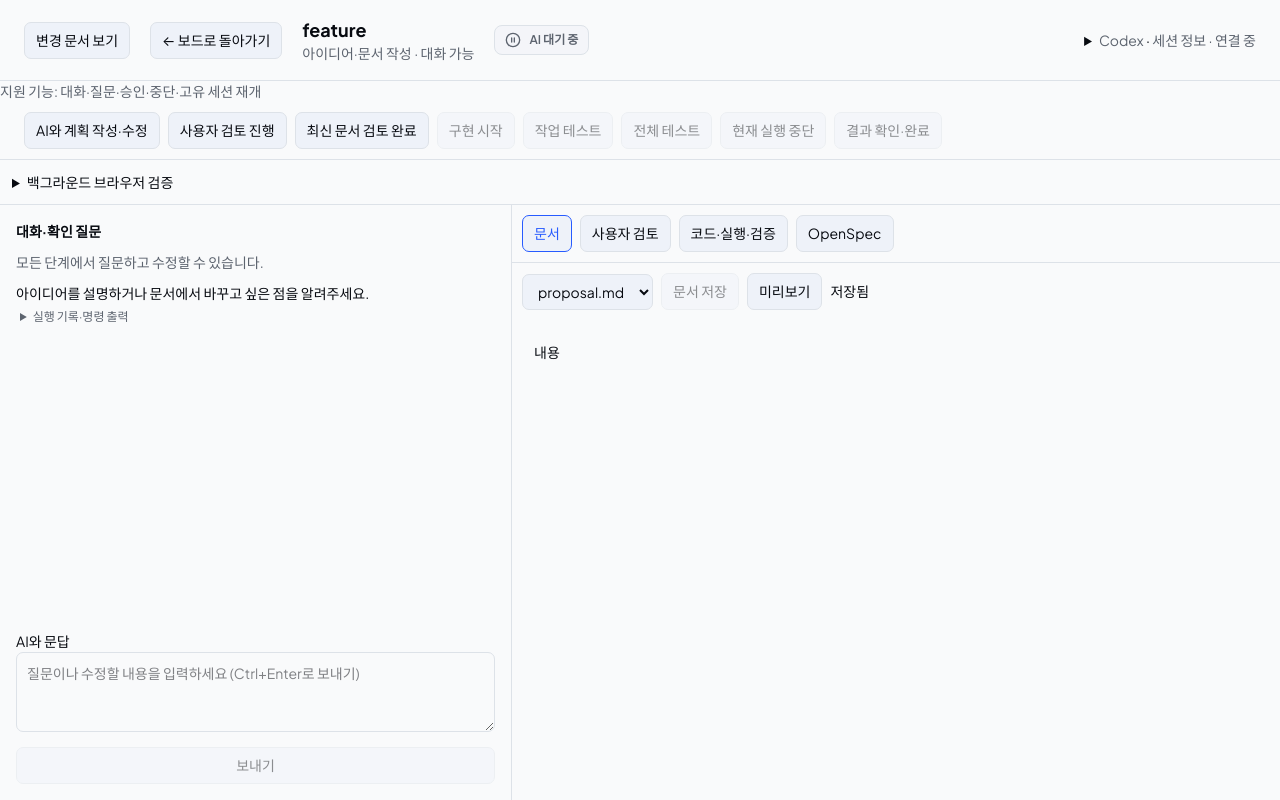
Test: 미저장 초안이 있으면 저장 안내 후 검토 요청을 보내지 않는다
Replace the text in the text box named "문서 내용" with "저장하지 않은 내용": (896, 560) [512,320,1279,799]
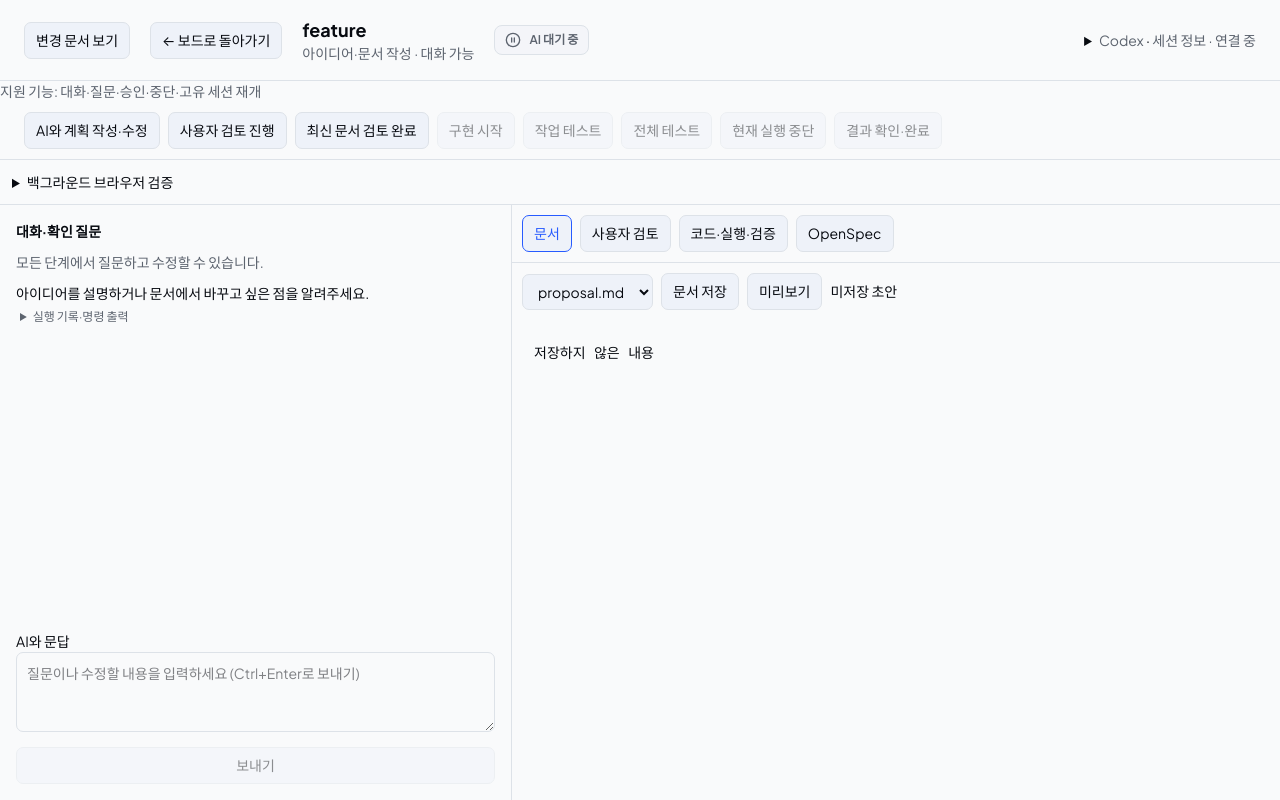
Click the button "사용자 검토 진행": (227, 130) [168,112,286,149]
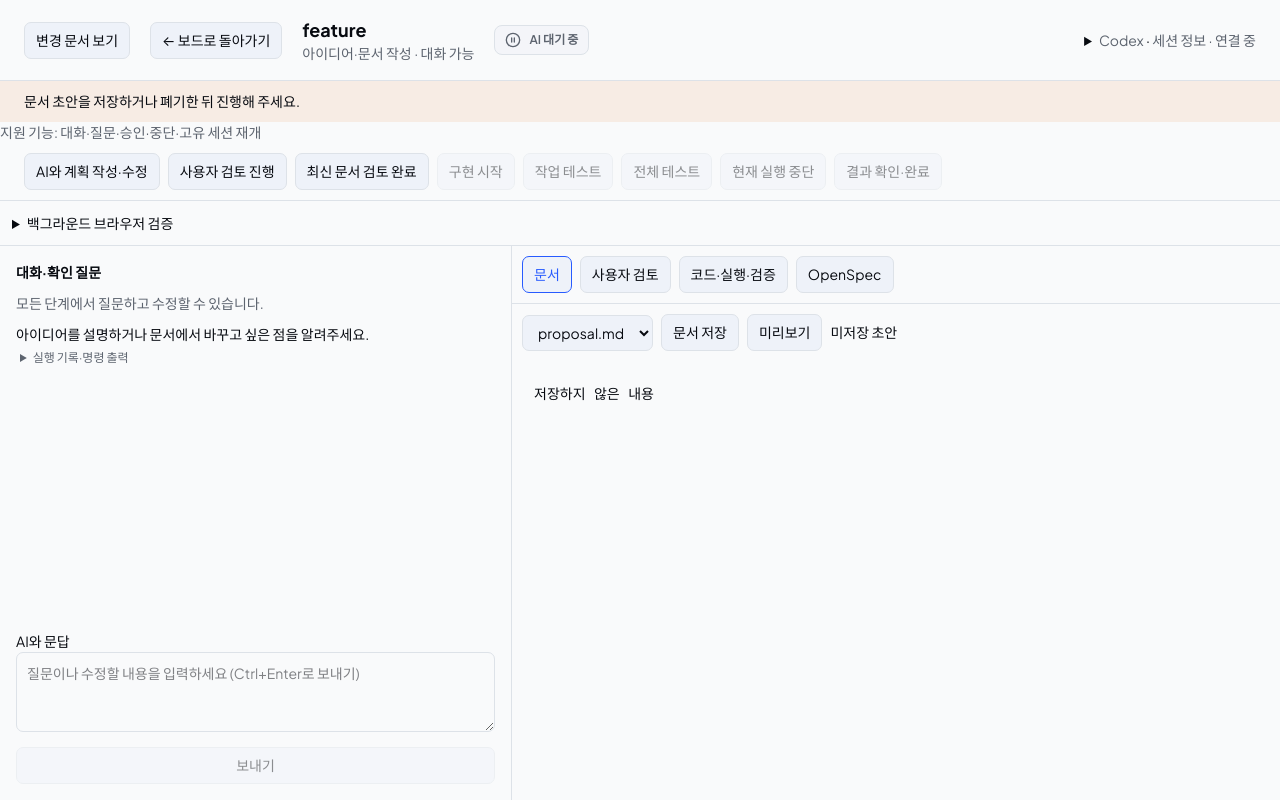
Check: the message "문서 초안을 저장하거나 폐기한 뒤 진행해 주세요." is shown, box [0,81,1279,122]
